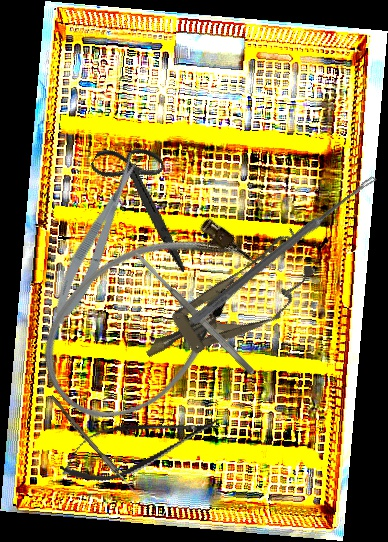Cannula: (14, 187, 283, 448)
Iris Scissors: (65, 128, 227, 275)
Micro Scissor: (43, 149, 152, 329), (52, 397, 227, 494)
Spatula Surgical: (131, 248, 257, 377)
Speculum: (128, 225, 328, 387)
Surgical Spoon: (189, 171, 378, 328), (47, 394, 144, 501)
